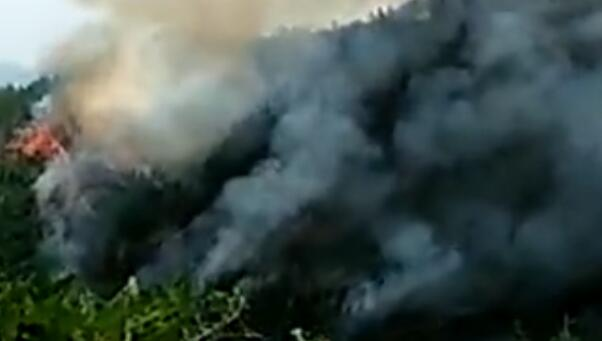yanwu: (30, 0, 601, 314)
